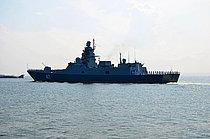MIL_Ship: (25, 39, 180, 84)
